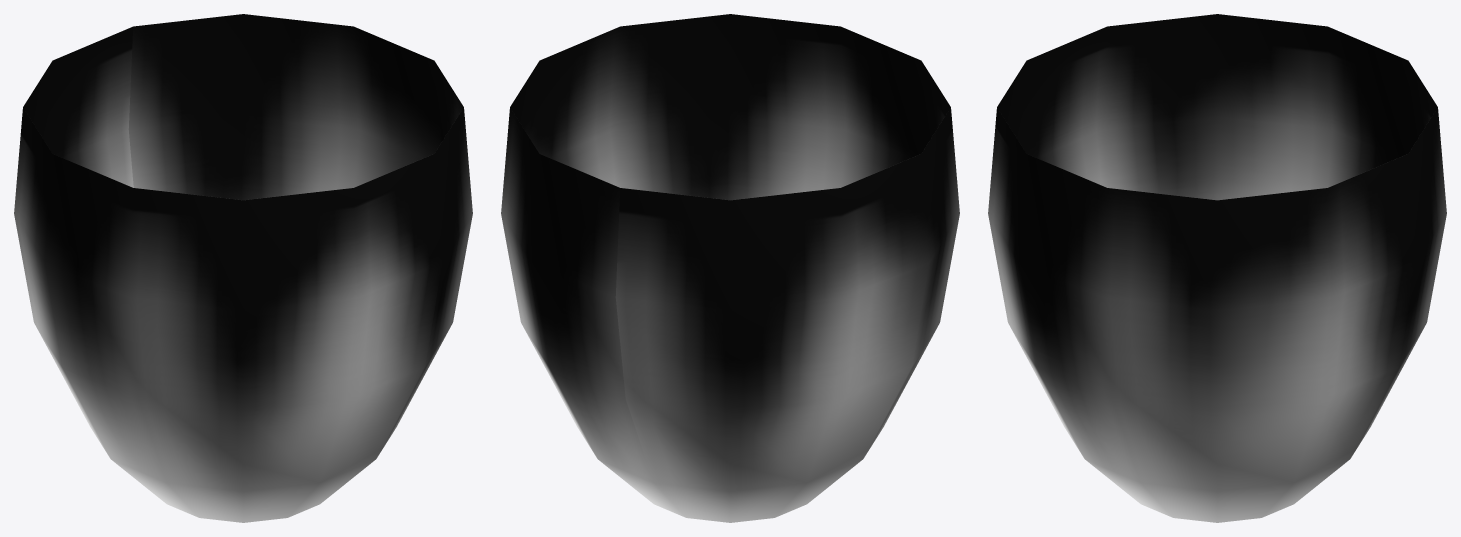
File: Meteor.FBX
The picture shows the model from 3 angles, left to right: view 1: azimuth 30°, elevation 25°; view 2: azimuth 150°, elevation 25°; view 3: azimuth 270°, elevation 25°; orthographic projection.
Visible parts, largest first — view 1: Sphere002; view 2: Sphere002; view 3: Sphere002.
Part boxes in pixels (bbox=[...]): Sphere002: bbox=[14, 14, 472, 522]; Sphere002: bbox=[501, 14, 959, 522]; Sphere002: bbox=[988, 14, 1446, 522].
Bounding box in the file's own units: 44.57 × 42.85 × 44.57.
